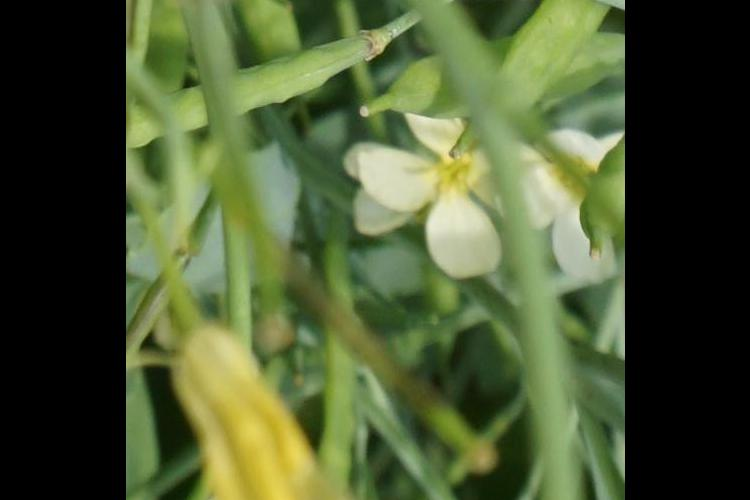pod: (132, 18, 401, 150), (452, 1, 598, 163), (349, 35, 530, 129), (574, 129, 624, 298)
white: (338, 103, 571, 271)
yellow: (175, 377, 369, 500)
